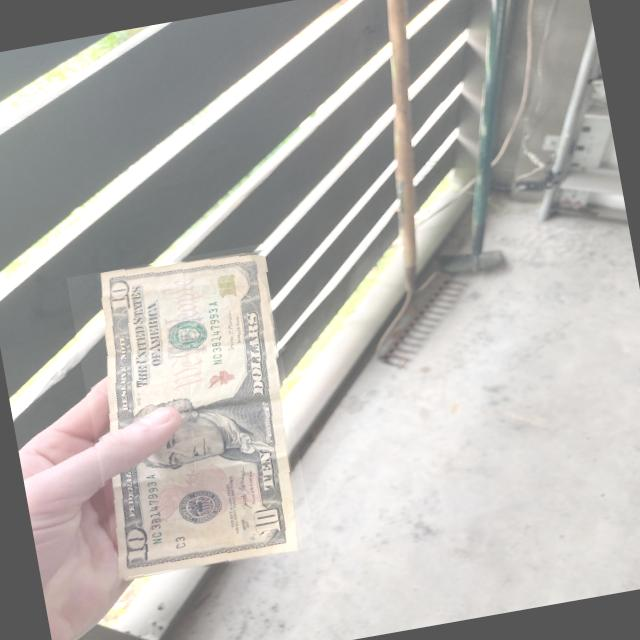ten: (83, 252, 302, 579)
